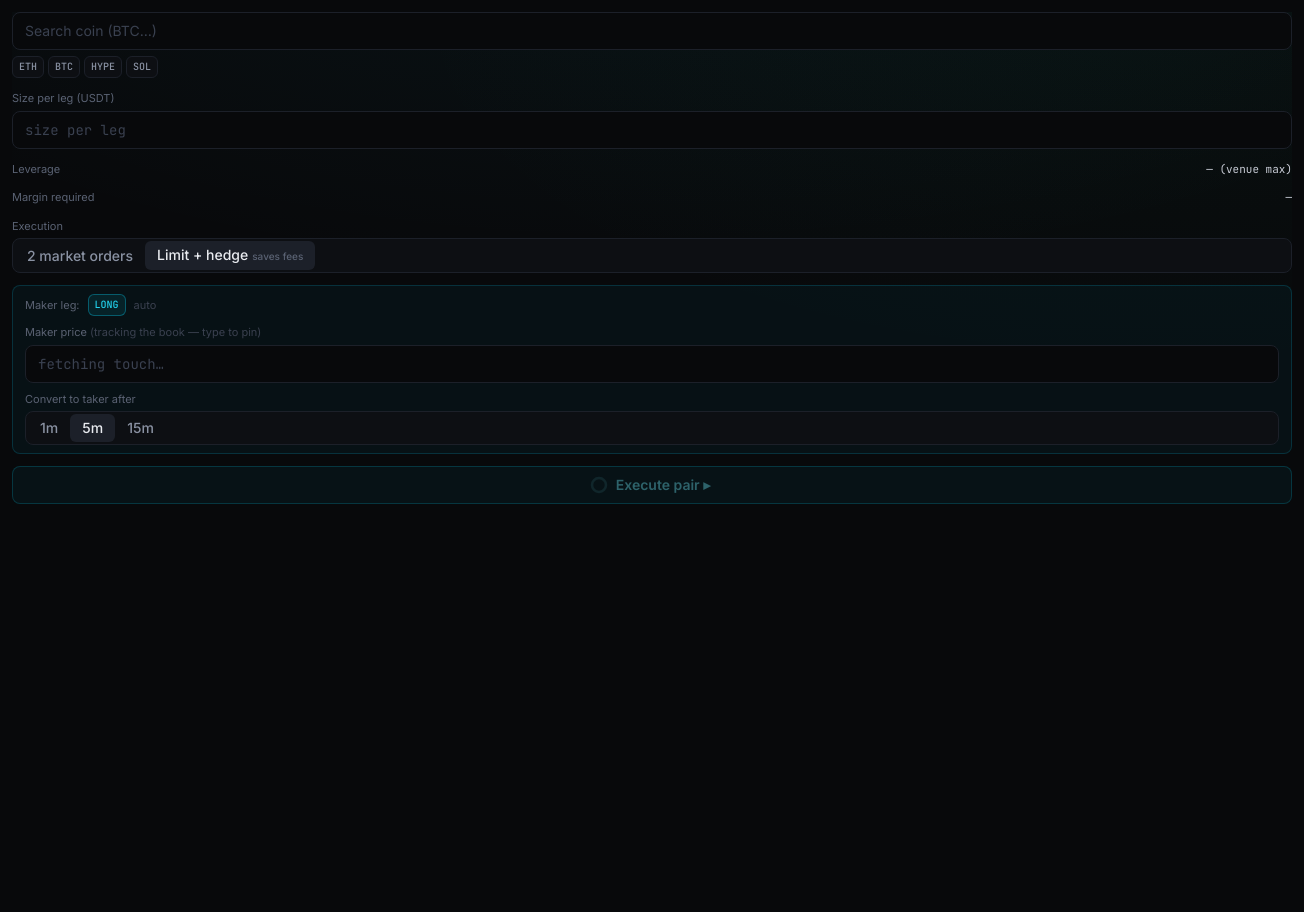
Test case: quick-pick coins › pair mode: clicking HYPE sets the coin and shows the venue rows
Click the button "HYPE": click(103, 67) [84, 56, 122, 78]
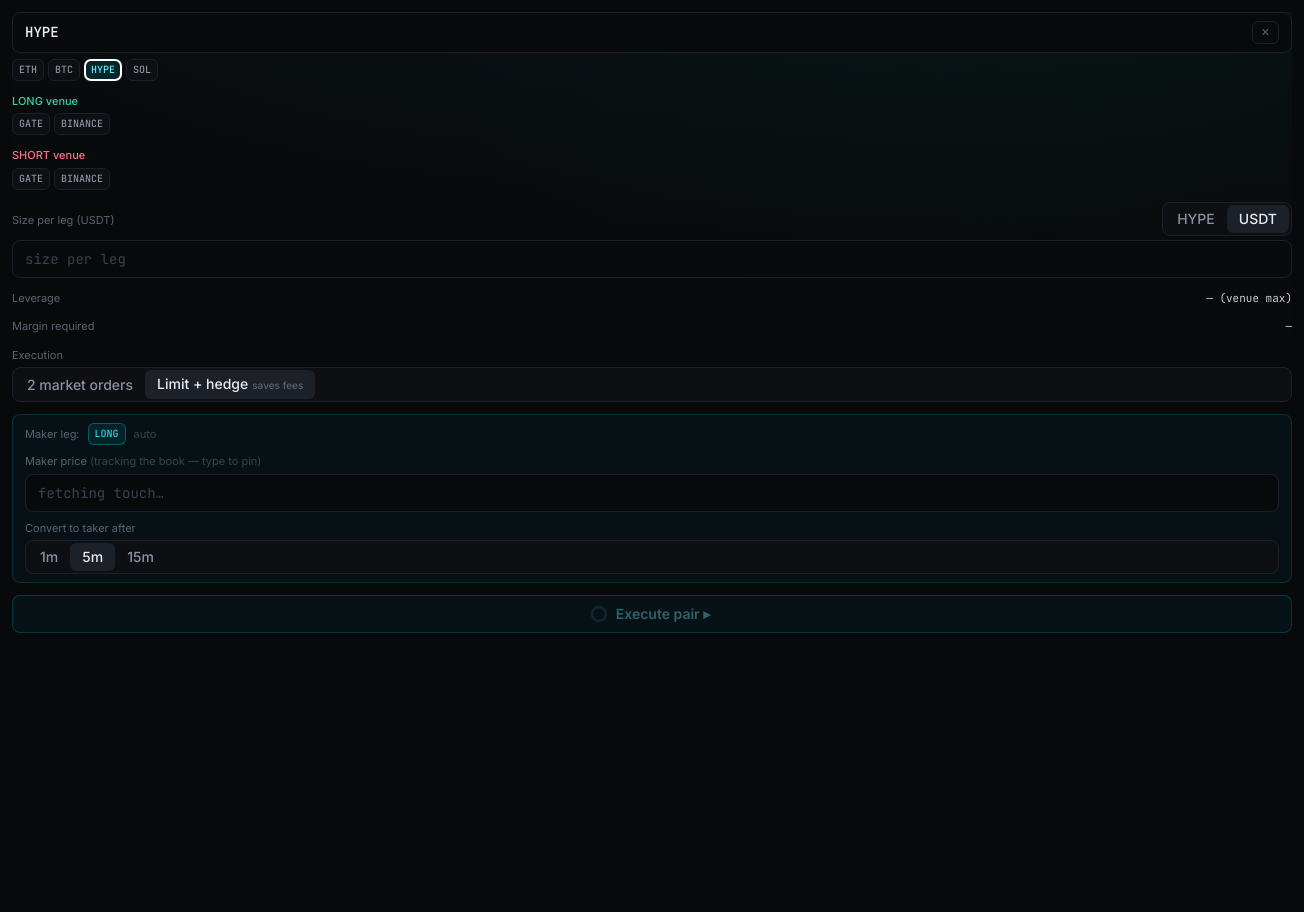
Result: the text "LONG venue" is shown at [12, 94, 78, 108]
Result: the text "SHORT venue" is shown at [12, 148, 85, 162]
Result: the number of buttons "GATE" is 2 at [12, 113, 50, 135]; [12, 168, 50, 190]
